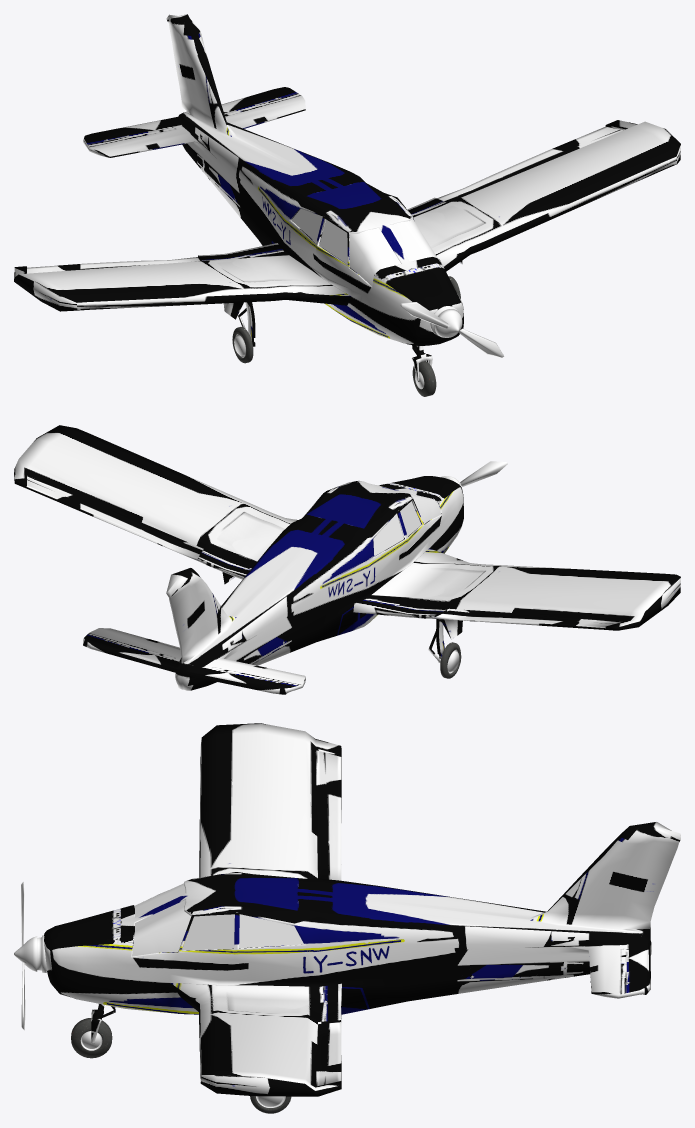
Rendered from Cherokee.gltf.
3 views of the same model, one above another, from view 1: azimuth 30°, elevation 25°; view 2: azimuth 150°, elevation 25°; view 3: azimuth 270°, elevation 25° (orthographic). The views are drawn at different scales.
Visible parts, largest first — view 1: Cube.001, Cube.004, Cylinder.001, Cylinder, Cylinder.002; view 2: Cube.001, Cube.004, Cylinder, Cylinder.001; view 3: Cube.001, Cube.004, Cylinder.001, Cylinder.002, Cylinder.
Part boxes in pixels (box(x1,y1,x2,y2)): Cube.001: box(14, 14, 680, 381); Cube.004: box(291, 209, 437, 286); Cylinder.001: box(400, 302, 503, 357); Cylinder: box(232, 276, 460, 363); Cylinder.002: box(412, 361, 436, 396); Cube.001: box(14, 425, 680, 694); Cube.004: box(370, 483, 441, 556); Cylinder: box(440, 642, 461, 678); Cylinder.001: box(441, 461, 507, 487); Cube.001: box(44, 723, 680, 1096); Cube.004: box(132, 883, 303, 956); Cylinder.001: box(14, 882, 46, 1030); Cylinder.002: box(71, 1018, 112, 1058); Cylinder: box(250, 1096, 291, 1113).
Bounding box in the file's own units: 3.82 × 1.16 × 3.04.
Materials: 4 (2 with a texture image).
